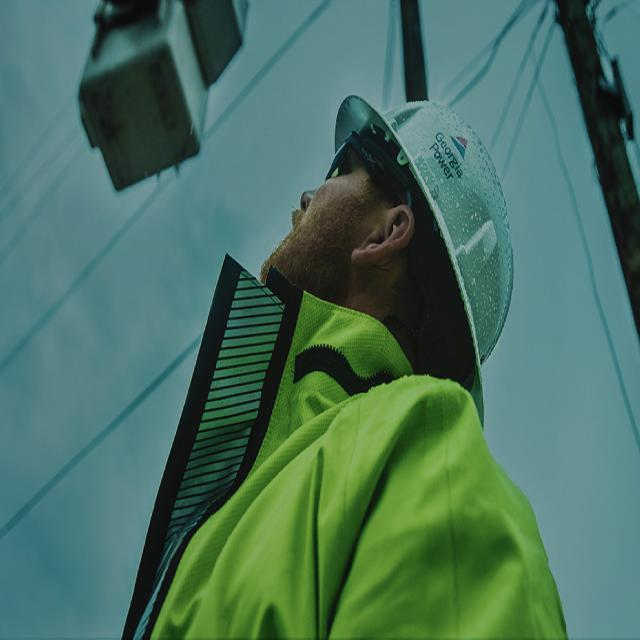helmet: (333, 88, 522, 431)
